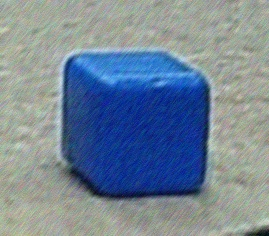blue_cube: (59, 47, 218, 204)
